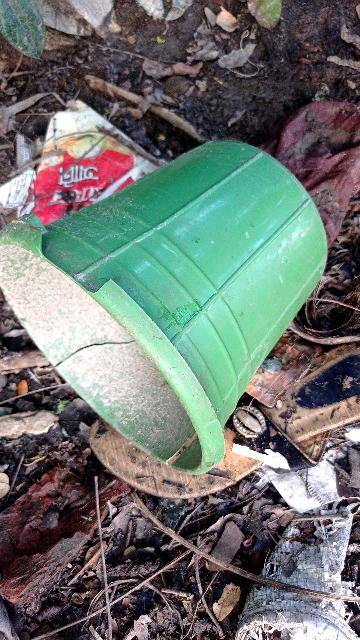hardplastic: (0, 72, 360, 488)
